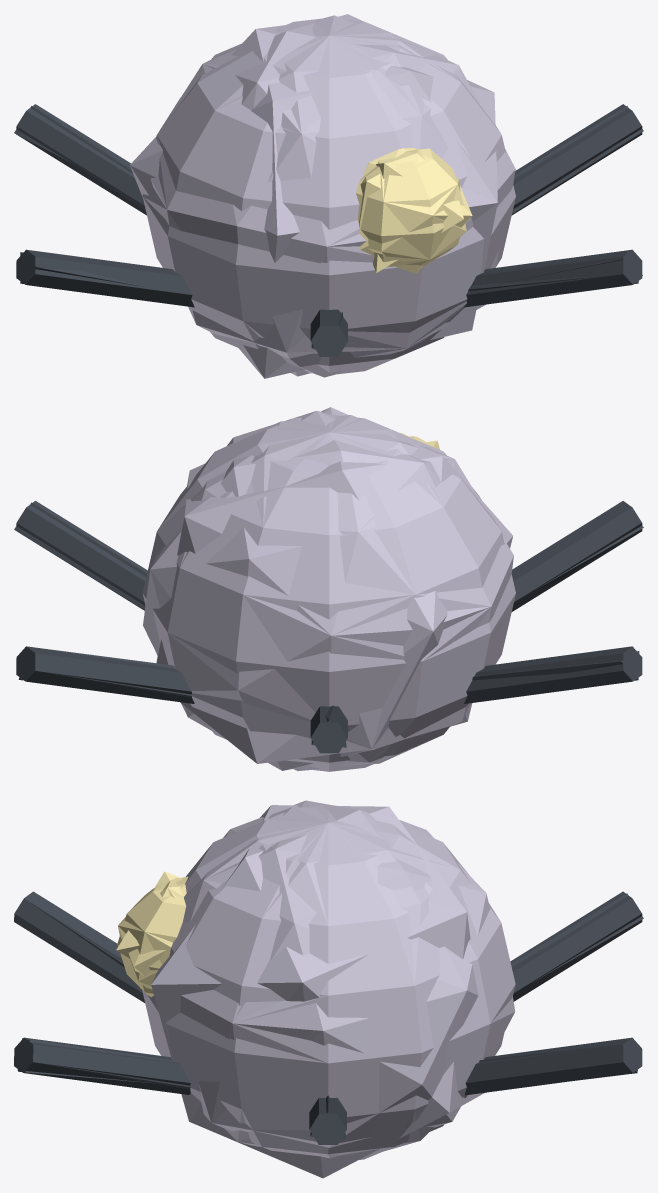
File: SM_Weaver.fbx
3 renders of one model, top to bottom at view 1: azimuth 30°, elevation 25°; view 2: azimuth 150°, elevation 25°; view 3: azimuth 270°, elevation 25°, orthographic.
Visible parts, largest first — view 1: SM_Weaver, LOD1_SM_Weaver, LOD3_SM_Weaver, LOD2_SM_Weaver; view 2: SM_Weaver, LOD1_SM_Weaver, LOD2_SM_Weaver, LOD3_SM_Weaver; view 3: SM_Weaver, LOD1_SM_Weaver, LOD2_SM_Weaver, LOD3_SM_Weaver.
Boxes of the visible parts, x1,y1,x2,y2 form: SM_Weaver: [16, 18, 642, 374]; LOD1_SM_Weaver: [14, 15, 643, 377]; LOD3_SM_Weaver: [130, 25, 497, 378]; LOD2_SM_Weaver: [150, 14, 642, 376]; SM_Weaver: [16, 414, 642, 771]; LOD1_SM_Weaver: [14, 415, 643, 770]; LOD2_SM_Weaver: [143, 411, 490, 770]; LOD3_SM_Weaver: [156, 407, 512, 763]; SM_Weaver: [14, 805, 642, 1159]; LOD1_SM_Weaver: [14, 807, 643, 1158]; LOD2_SM_Weaver: [22, 800, 490, 1147]; LOD3_SM_Weaver: [116, 805, 484, 1178].
Bounding box in the file's own units: 0.5499 × 0.2736 × 0.4841.
